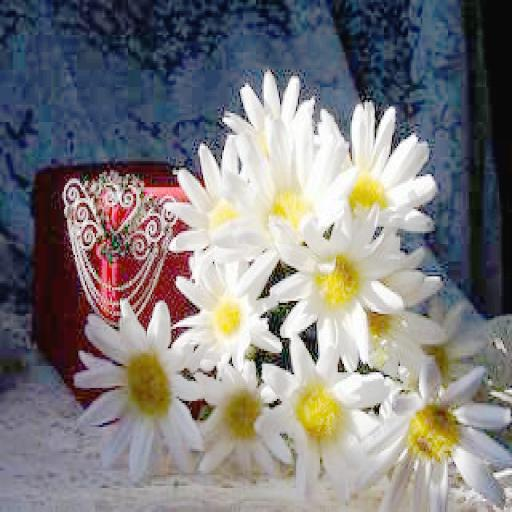daisy: (72, 308, 203, 468), (382, 366, 512, 505), (270, 346, 380, 488), (290, 226, 388, 364), (184, 248, 277, 364), (338, 115, 434, 218), (261, 150, 344, 250), (202, 358, 268, 480), (229, 74, 312, 159), (172, 170, 246, 248)
